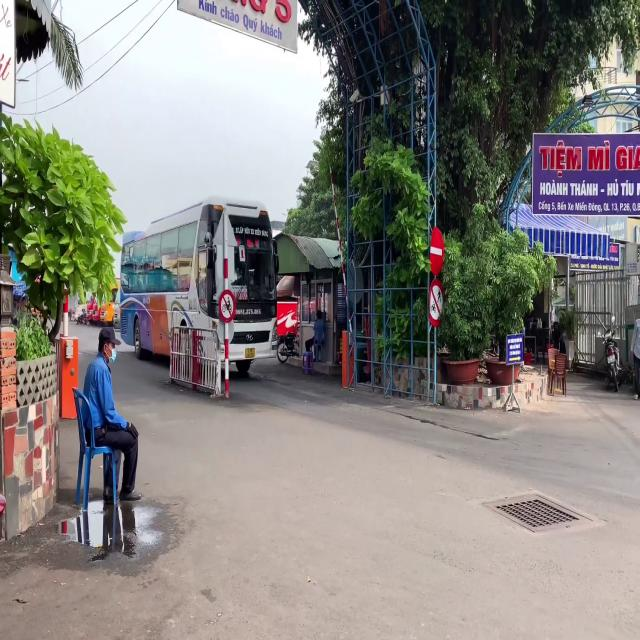bien_vang: (245, 347, 254, 358)
